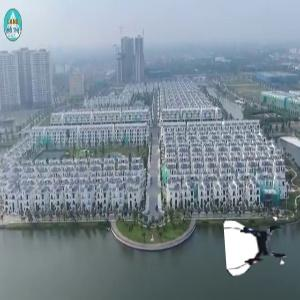drone: (226, 214, 290, 278)
